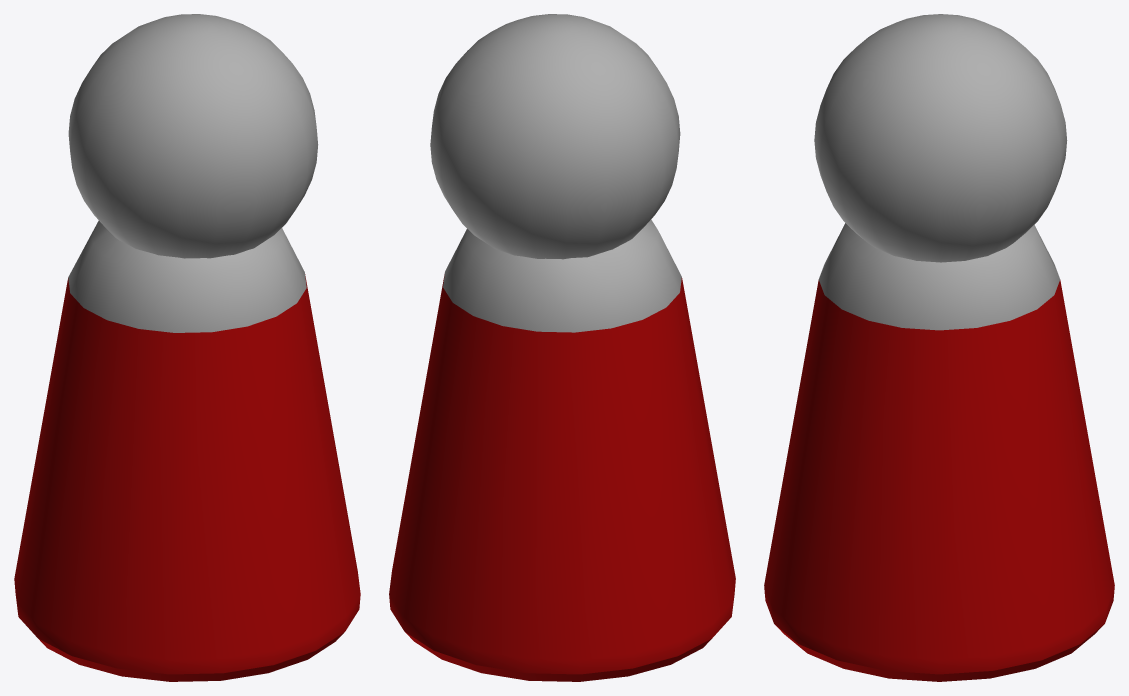
The model's file is Human.fbx.
3 renders of one model, left to right at view 1: azimuth 30°, elevation 25°; view 2: azimuth 150°, elevation 25°; view 3: azimuth 270°, elevation 25°, orthographic.
Visible parts, largest first — view 1: Human_Prefab; view 2: Human_Prefab; view 3: Human_Prefab.
Boxes of the visible parts, x1,y1,x2,y2 form: Human_Prefab: (14, 14, 360, 681); Human_Prefab: (389, 14, 735, 681); Human_Prefab: (764, 14, 1114, 681).
Bounding box in the file's own units: 0.00381 × 0.00712 × 0.00381.
